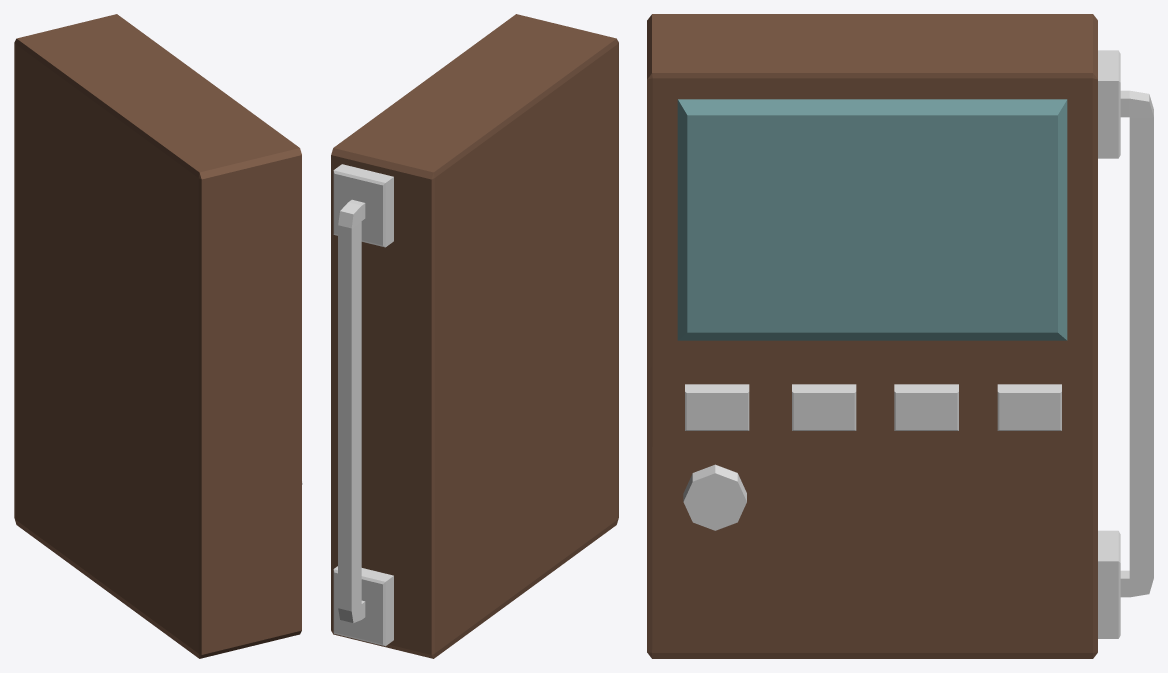
File: Monitor1.fbx
3 views of the same model, side by side, from view 1: azimuth 30°, elevation 25°; view 2: azimuth 150°, elevation 25°; view 3: azimuth 270°, elevation 25° (orthographic). The views are drawn at different scales.
Parts seen in each view (by area): view 1: Cube.001; view 2: Cube.001, Cube.004, Cube.002, Cube.003; view 3: Cube.001, Cube.004, Cylinder.012, Button.006, Button.007, Button.008, Button.009, Cube.002, Cube.003.
Boxes of the visible parts, bbox=[...] form: Cube.001: bbox=[14, 14, 301, 658]; Cube.001: bbox=[331, 14, 618, 658]; Cube.004: bbox=[338, 199, 365, 622]; Cube.002: bbox=[333, 164, 393, 247]; Cube.003: bbox=[333, 566, 393, 646]; Cube.001: bbox=[647, 14, 1097, 658]; Cube.004: bbox=[1120, 90, 1153, 597]; Cylinder.012: bbox=[683, 464, 746, 530]; Button.006: bbox=[685, 384, 749, 430]; Button.007: bbox=[792, 384, 856, 430]; Button.008: bbox=[894, 384, 958, 430]; Button.009: bbox=[997, 384, 1061, 430]; Cube.002: bbox=[1098, 50, 1120, 158]; Cube.003: bbox=[1098, 530, 1120, 638].
Bounding box in the file's own units: 21.63 × 86 × 67.42.
